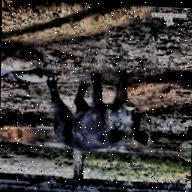boar: (38, 52, 154, 157)
